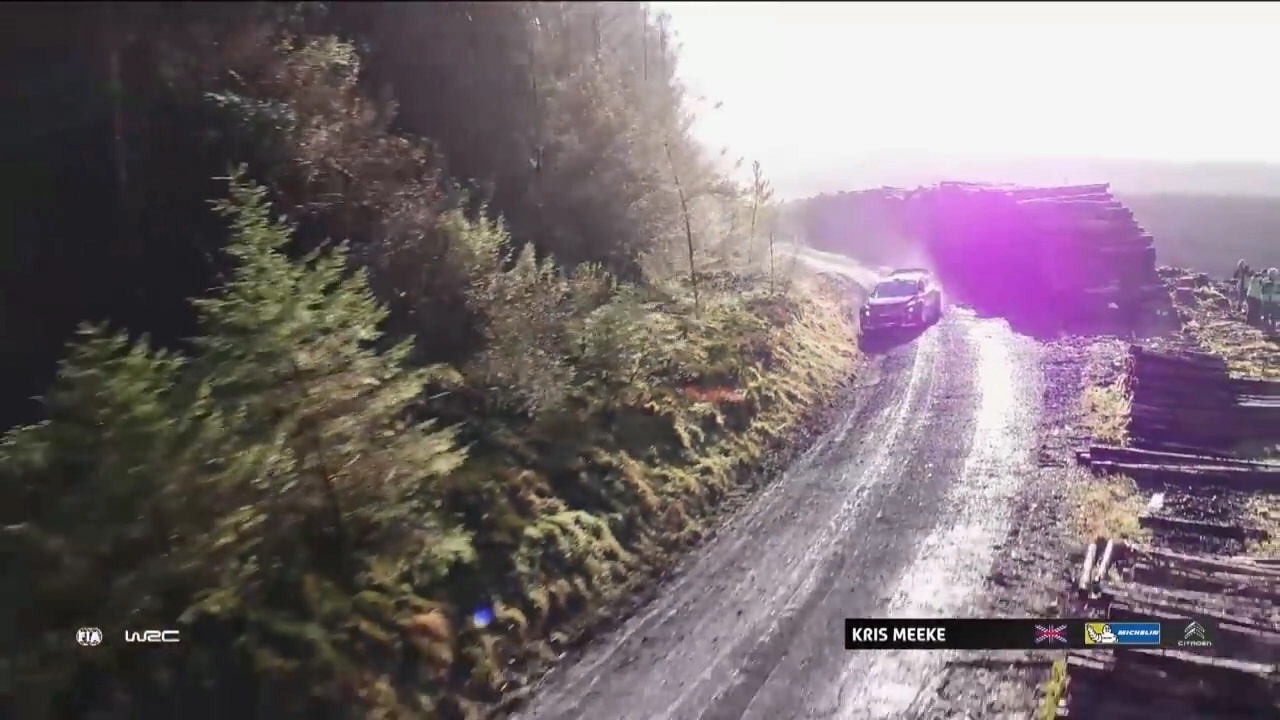araba: (859, 265, 941, 336)
